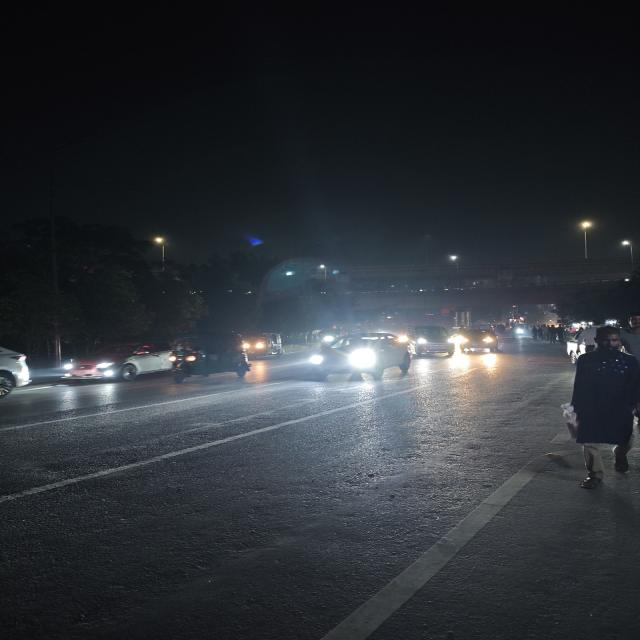car: (304, 332, 413, 382), (58, 342, 172, 388), (0, 340, 35, 404), (409, 324, 455, 360), (456, 326, 502, 356)
cng: (185, 334, 253, 383)
pedestrian: (554, 325, 640, 490), (562, 325, 580, 361), (574, 324, 592, 358), (549, 322, 564, 346), (531, 324, 545, 342)
